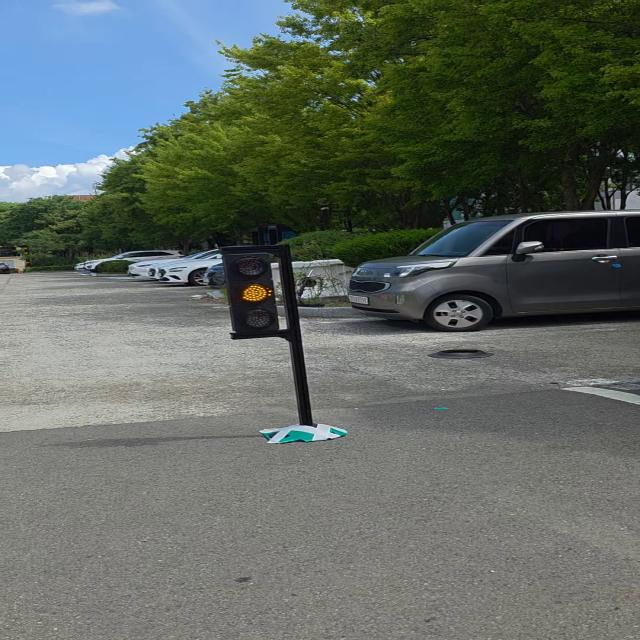yellow: (220, 246, 284, 342)
